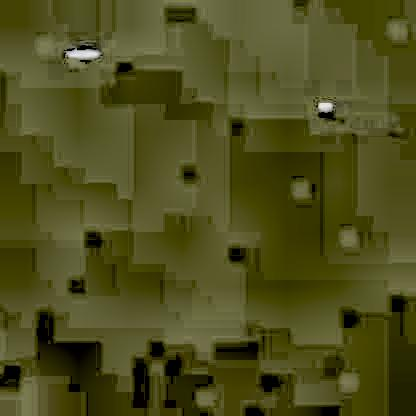golfball: (316, 100, 331, 112)
